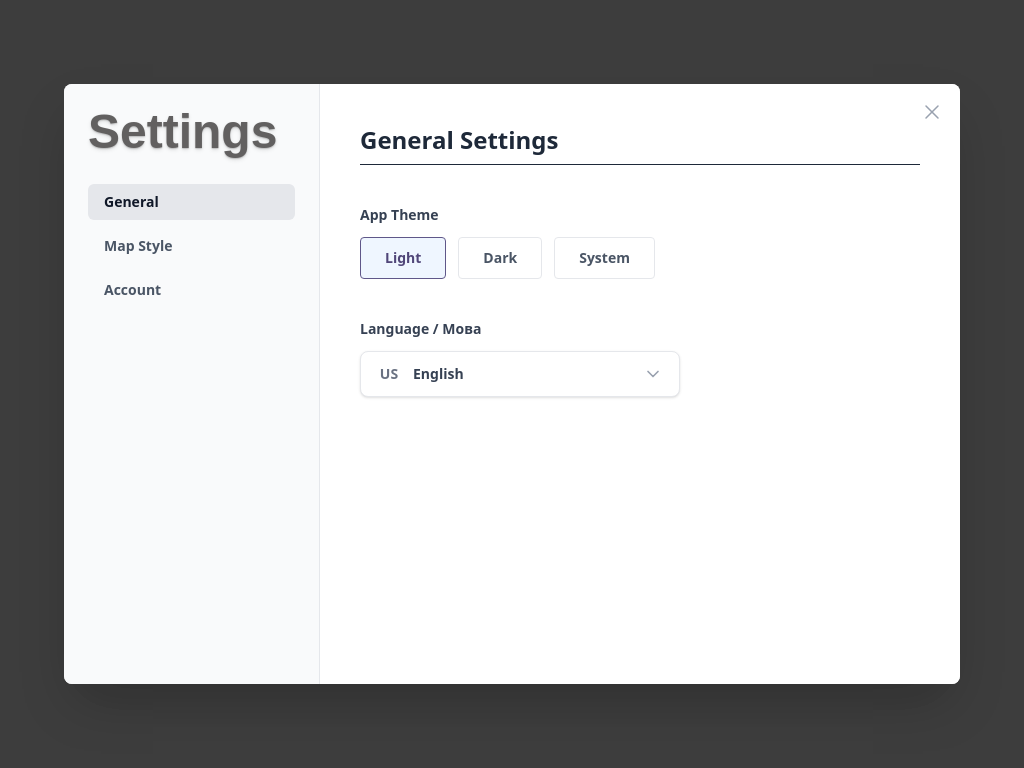
it: SettingsModal Component › shows the logged-in user with initials on the Account tab
The width and height of the screenshot is (1024, 768).
Click the button "Account" at [192, 290], box 88,272 -> 295,308
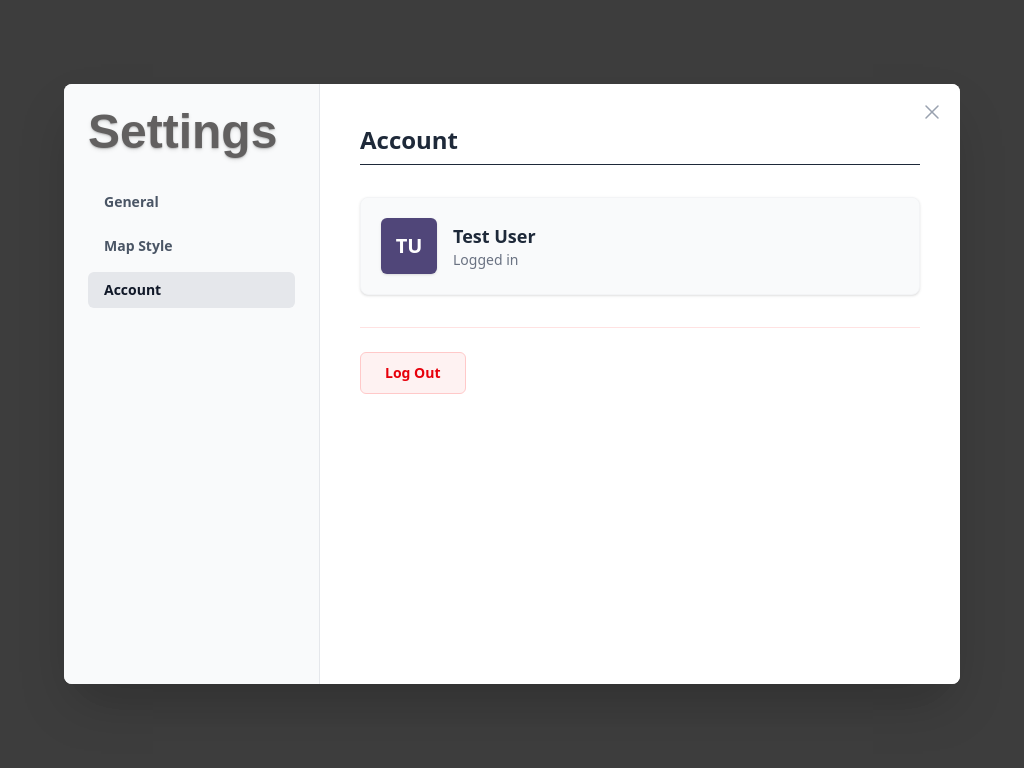
expect the text "Test User" is shown: met, box 453,222 -> 536,250
expect the text "TU" is shown: met, box 381,218 -> 437,274
